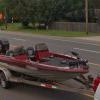Boat: (2, 38, 93, 90)
